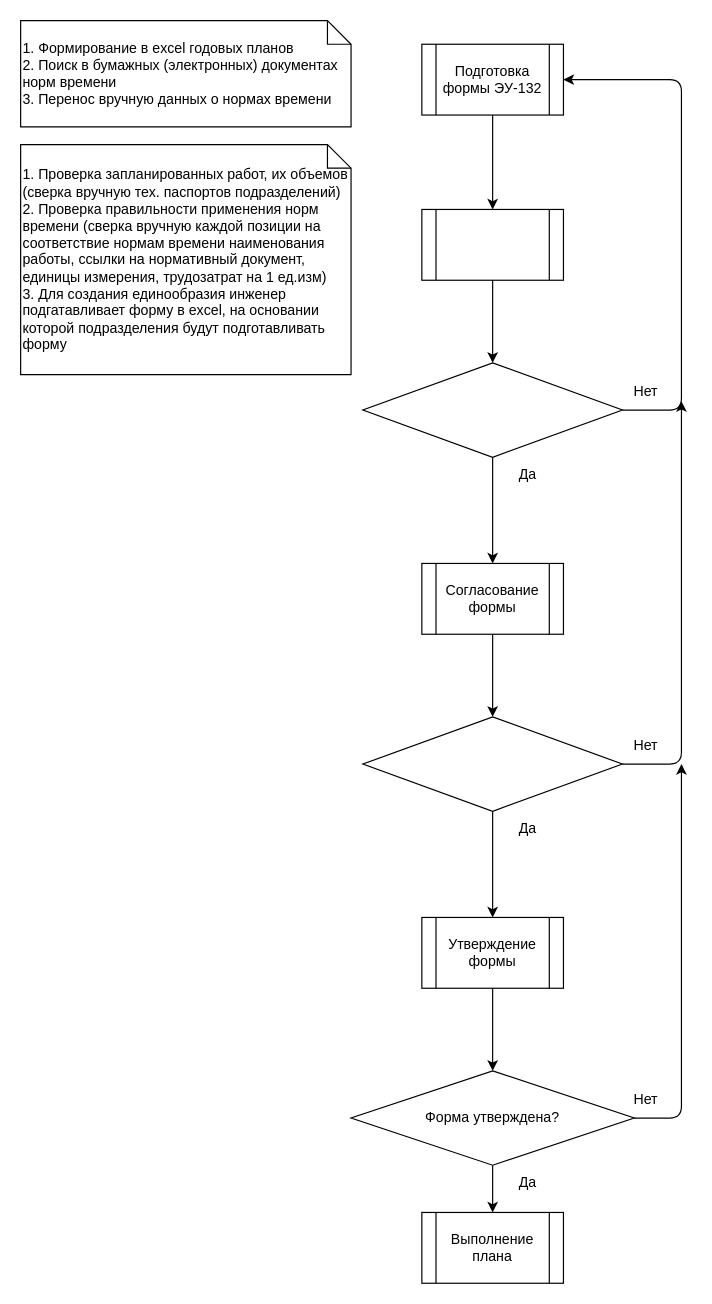
Some shapes in this 712 by 1304 pixel diagram are drawn without their labels. Here are the shapes that lost their labels. From the top down, the centre of each, then its label:
At point 492,244: "Проверка формы ЭУ-132 инженерами".
At point 492,409: "Проект формы прошел проверку?".
At point 492,763: "Форма согласована?".
